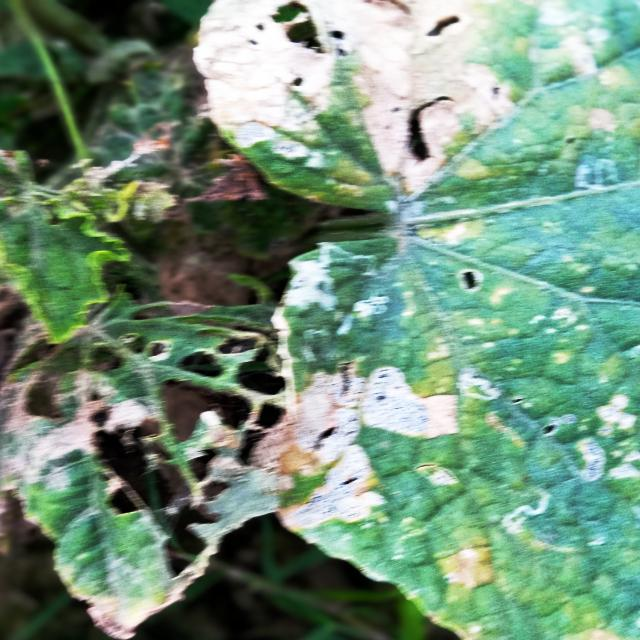Anthracnose: (398, 89, 460, 165), (269, 1, 346, 58), (418, 9, 468, 38)
